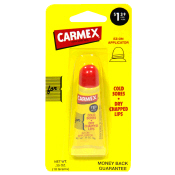grozi_47: (44, 4, 131, 172)
